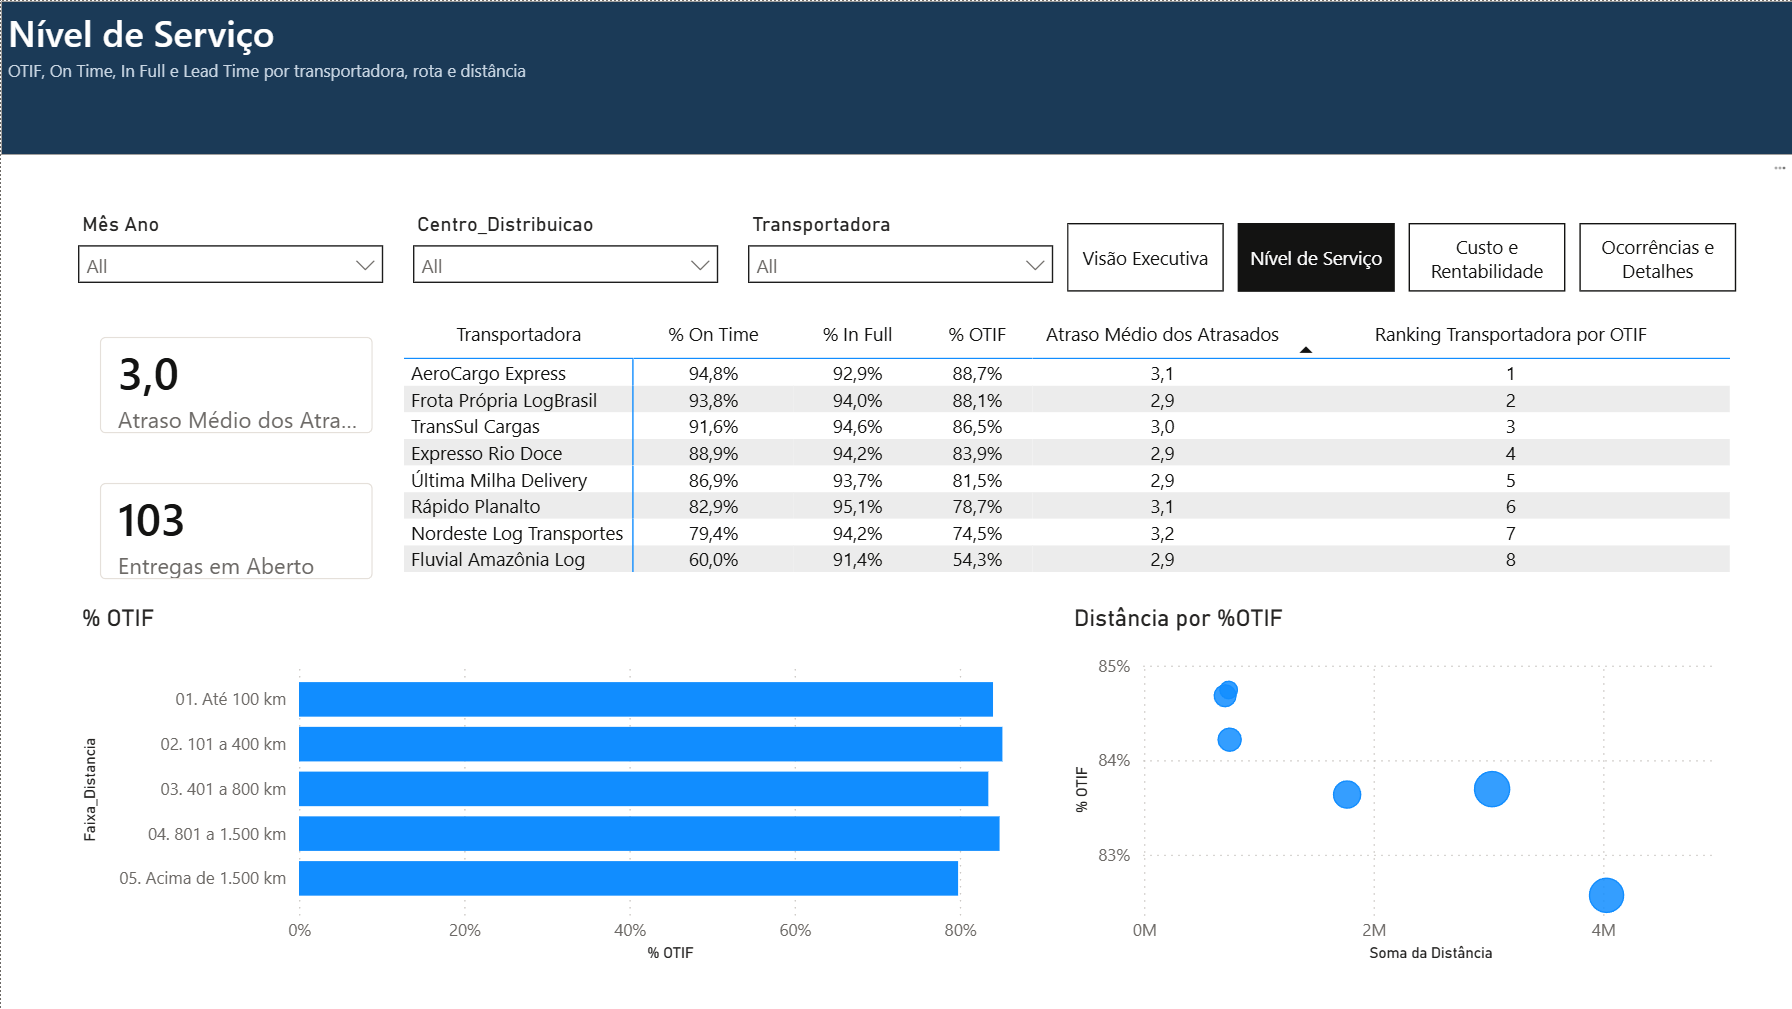

The dashboard page shown, as its layout file describes it:
{"tool":"powerbi","page":{"name":"Nível de Serviço","canvas":[1280,720],"ordinal":1},"visuals":[{"type":"pageNavigator","box":[761.5,158.5,478.9,50],"z":0},{"type":"pivotTable","fields":{"Rows":["dTransportadora.Transportadora"],"Values":["_Medidas.% On Time","_Medidas.% In Full","_Medidas.% OTIF","_Medidas.Atraso Médio dos Atrasados","_Medidas.Ranking Transportadora por OTIF"]},"box":[282.5,223,957.8,206.7],"z":1000},{"type":"scatterChart","title":"Distância por %OTIF","fields":{"Category":["dCentroDistribuicao.Centro_Distribuicao"],"Size":["Sum(fEntregas.Qtd_Volumes)"],"X":["Sum(fEntregas.Distancia_KM)"],"Y":["_Medidas.% OTIF"]},"box":[761.5,431,478.9,260.1],"z":2000},{"type":"cardVisual","fields":{"Data":["_Medidas.Entregas em Aberto"]},"box":[53.4,327,229.1,103.4],"z":3000},{"type":"cardVisual","fields":{"Data":["_Medidas.Atraso Médio dos Atrasados"]},"box":[53.4,223,229.1,103.4],"z":4000},{"type":"slicer","fields":{"Values":["dCalendario.Mês Ano"]},"box":[44.8,146.4,237.7,75.8],"z":5000},{"type":"slicer","fields":{"Values":["dCentroDistribuicao.Centro_Distribuicao"]},"box":[284.3,146.4,237.7,75.8],"z":6000},{"type":"slicer","fields":{"Values":["dTransportadora.Transportadora"]},"box":[523.7,146.4,237.7,75.8],"z":7000},{"type":"clusteredBarChart","title":"% OTIF","fields":{"Category":["fEntregas.Faixa_Distancia"],"Legend":["dDestino.Regiao_Destino"],"Y":["_Medidas.% OTIF"]},"box":[53,431,708,260],"z":8000},{"type":"textbox","box":[0,0,1280,110],"z":9000}]}

Visuals, with their boxes in screenshot pixels (x1, y1, x2, y2), scaled from the page's 1280x720 canvas onto the 1792x1009 screenshot:
pageNavigator: crop(1066, 222, 1737, 292)
pivotTable - dTransportadora.Transportadora x _Medidas.% On Time: crop(396, 313, 1736, 602)
"Distância por %OTIF" scatterChart: crop(1066, 604, 1737, 968)
cardVisual - _Medidas.Entregas em Aberto: crop(75, 458, 396, 603)
cardVisual - _Medidas.Atraso Médio dos Atrasados: crop(75, 313, 396, 457)
slicer - dCalendario.Mês Ano: crop(63, 205, 396, 311)
slicer - dCentroDistribuicao.Centro_Distribuicao: crop(398, 205, 731, 311)
slicer - dTransportadora.Transportadora: crop(733, 205, 1066, 311)
"% OTIF" clusteredBarChart: crop(74, 604, 1065, 968)
textbox: crop(0, 0, 1791, 154)
